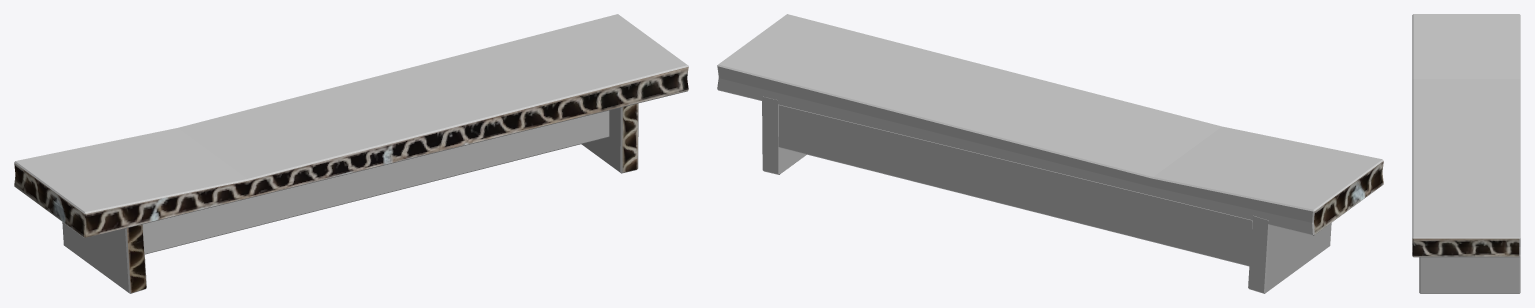
Rendered from Shelf.fbx.
3 renders of one model, left to right at view 1: azimuth 30°, elevation 25°; view 2: azimuth 150°, elevation 25°; view 3: azimuth 270°, elevation 25°, orthographic. The views are drawn at different scales.
Parts seen in each view (by area): view 1: Cube; view 2: Cube; view 3: Cube.
Part boxes in pixels (x1,y1,x2,y2): Cube: (14,14,688,293); Cube: (717,14,1383,293); Cube: (1412,14,1520,293).
Bounding box in the file's own units: 501 × 77.02 × 102.
